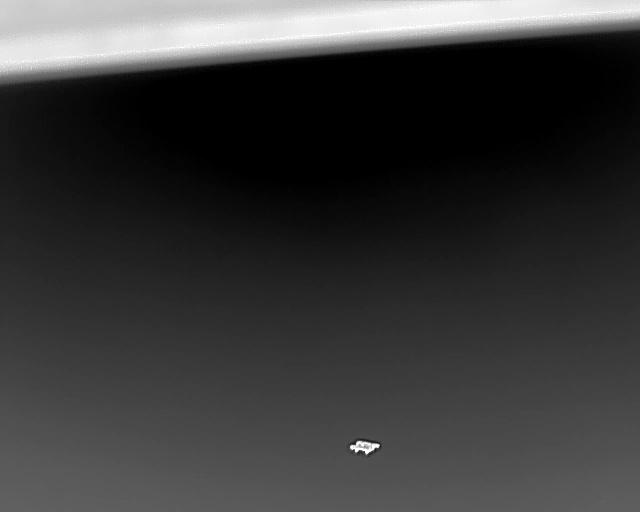fpv-drone: (349, 439, 380, 455)
